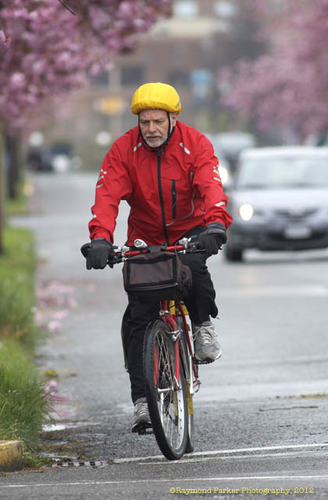bikerider: (58, 70, 256, 472)
